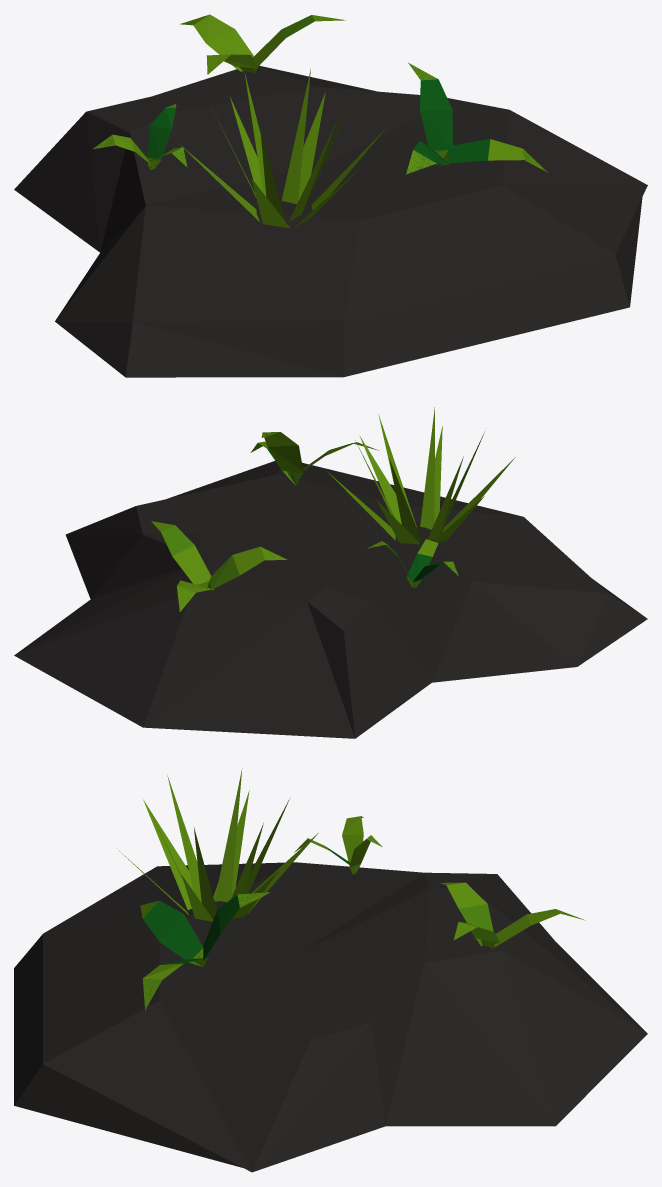
The model's file is obj_bush_3_0.obj.
The picture shows the model from 3 angles, top to bottom: view 1: azimuth 30°, elevation 25°; view 2: azimuth 150°, elevation 25°; view 3: azimuth 270°, elevation 25°; orthographic projection. The views are drawn at different scales.
Bounding box in the file's own units: 2.16 × 0.6797 × 2.04.
